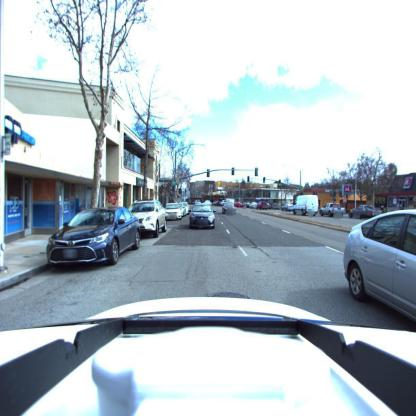car: (7, 290, 416, 416), (343, 207, 416, 346), (48, 206, 142, 265), (130, 200, 167, 237), (190, 202, 216, 228), (349, 204, 380, 218), (166, 202, 185, 220), (320, 202, 341, 217), (210, 201, 224, 214), (257, 199, 271, 209), (234, 200, 244, 207), (246, 202, 256, 209)
traffic light: (231, 167, 234, 176), (206, 169, 209, 178), (256, 168, 259, 176)
truck: (290, 195, 320, 216)
